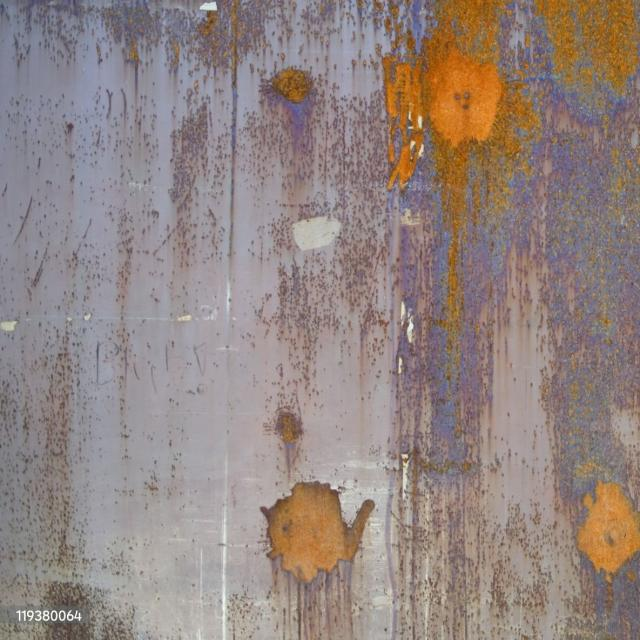Uniform Corrosion: (383, 0, 639, 350), (261, 481, 374, 582), (577, 481, 639, 582), (270, 67, 313, 103)
